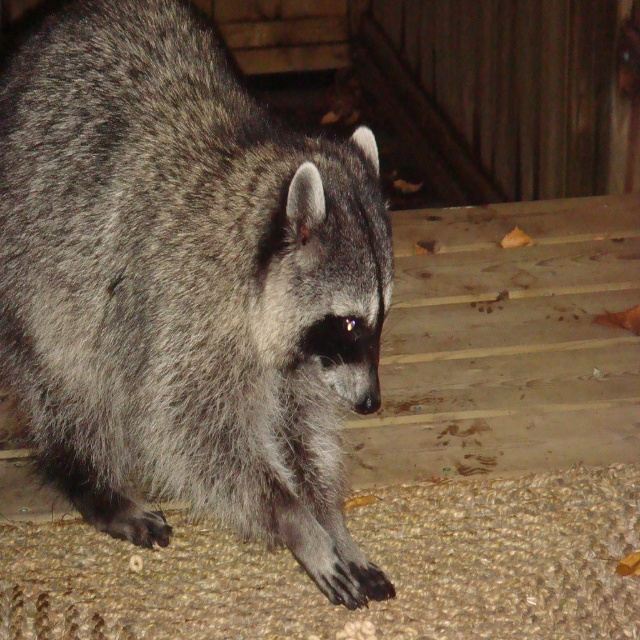Raccoon: (0, 0, 397, 610)
